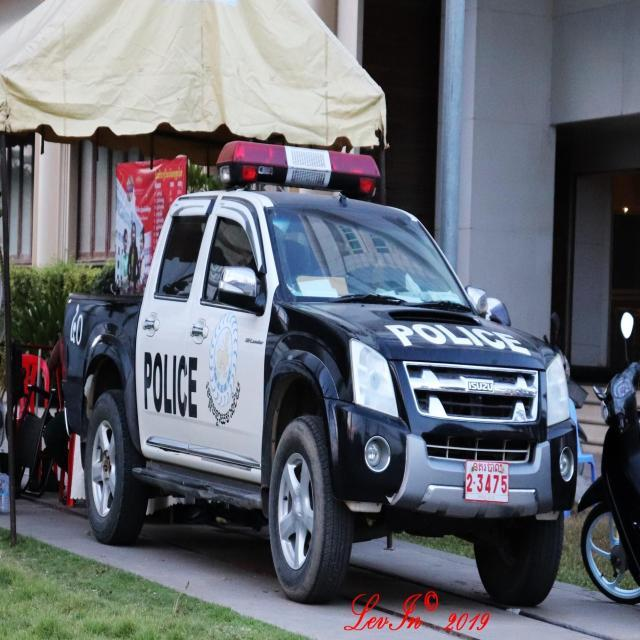Police: (473, 462, 504, 474)
